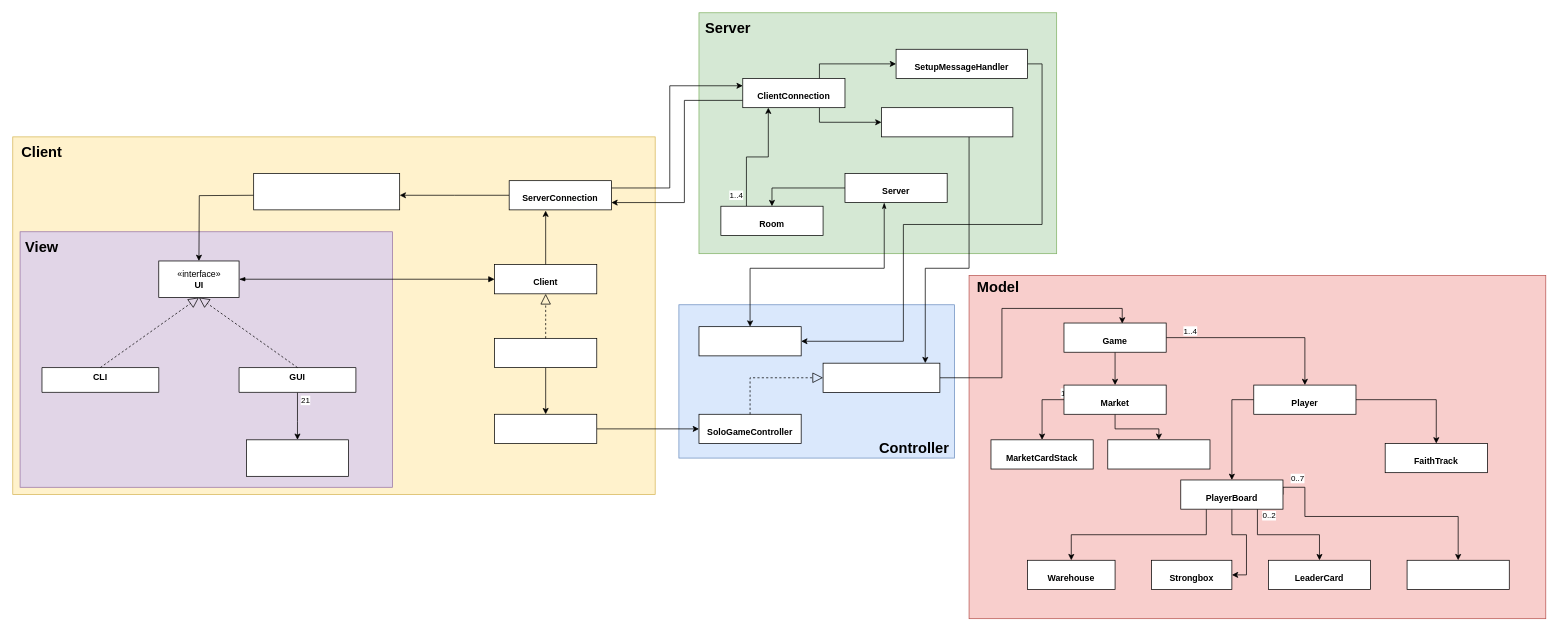
This 1559x631 diagram has some shape labels left out. Here are the shapes that lost their labels. From the top down, the centre of each, then its label:
[947,122]: GameMessageHandler
[326,191]: ClientMessageHandler
[545,353]: LocalClient
[749,341]: ServerController
[881,377]: ClassicGameController
[545,428]: LocalMessageHandler
[297,457]: «interface» SceneController
[1158,454]: MarbleStructure
[1457,574]: DevelopmentCard
